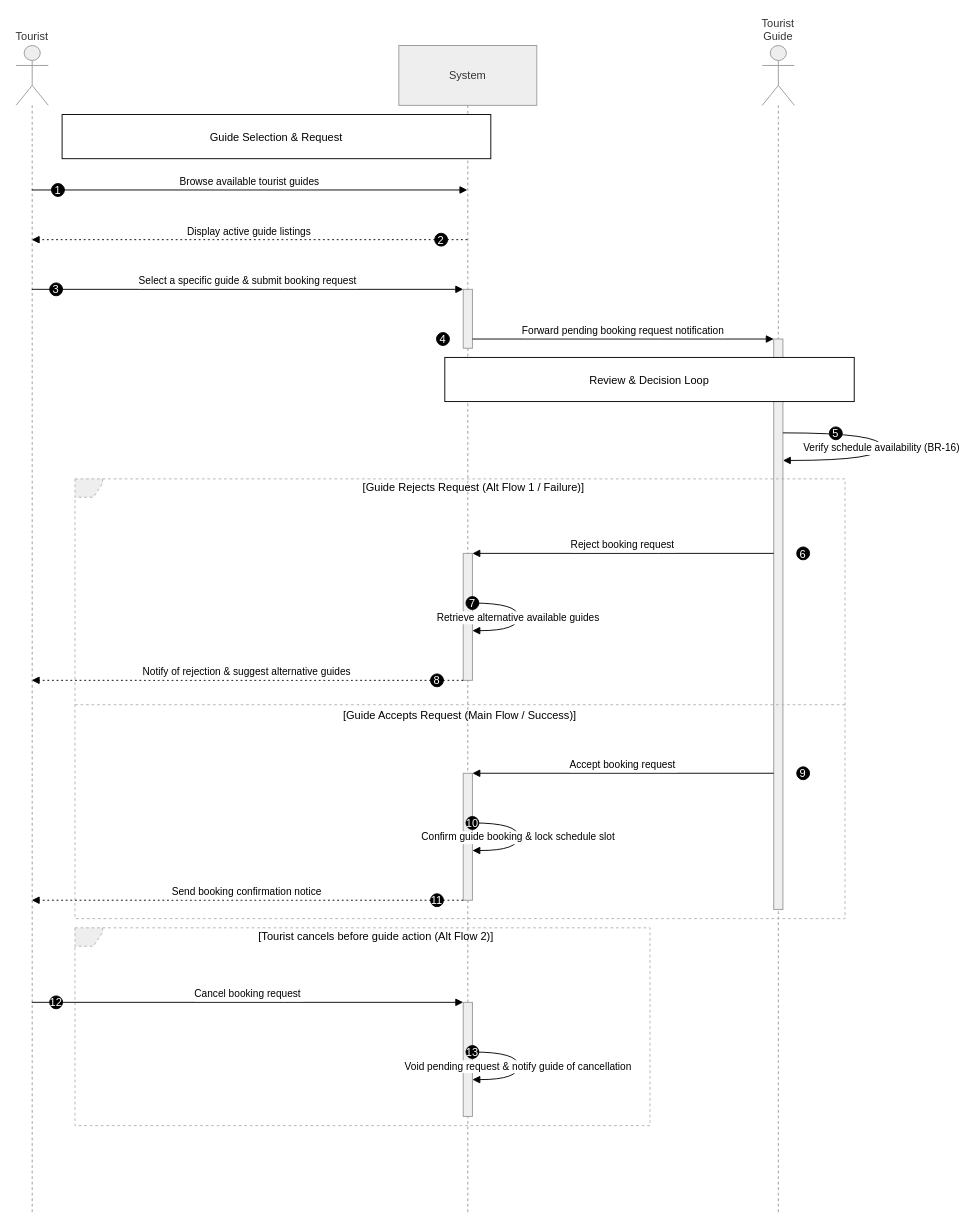
This 977x1229 diagram has some shape labels left out. Each missing label, with the box of its shape:
alt: (74, 478, 845, 919)
opt: (74, 927, 650, 1126)
